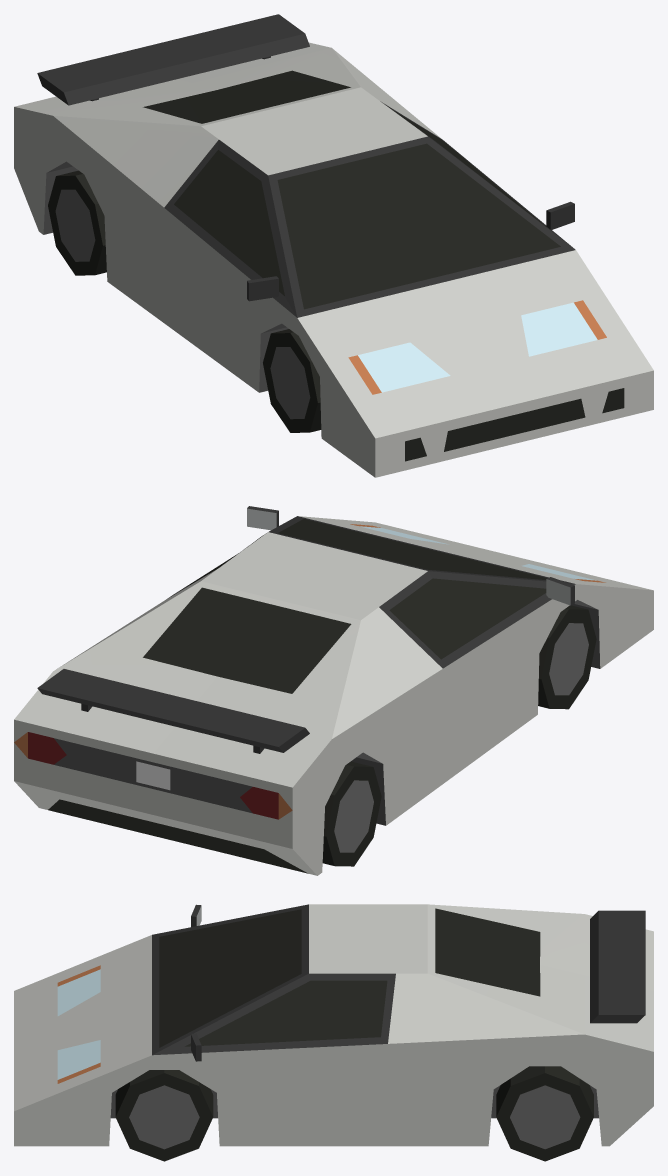
File: Veh_Sports_Car_02_White.glb
The picture shows the model from 3 angles, top to bottom: view 1: azimuth 30°, elevation 25°; view 2: azimuth 150°, elevation 25°; view 3: azimuth 270°, elevation 25°; orthographic projection. The views are drawn at different scales.
Visible parts, largest first — view 1: Sports_Car_02_White, Wheel_RR, Wheel_FR; view 2: Sports_Car_02_White, Wheel_RR, Wheel_FR; view 3: Sports_Car_02_White, Wheel_RL, Wheel_FL.
Boxes of the visible parts, left/top/right/bottom form: Sports_Car_02_White: left=14, top=14, right=653, bottom=477; Wheel_RR: left=48, top=170, right=106, bottom=275; Wheel_FR: left=263, top=329, right=321, bottom=432; Sports_Car_02_White: left=14, top=506, right=653, bottom=875; Wheel_RR: left=322, top=761, right=381, bottom=866; Wheel_FR: left=538, top=605, right=596, bottom=709; Sports_Car_02_White: left=14, top=904, right=653, bottom=1146; Wheel_RL: left=496, top=1066, right=593, bottom=1161; Wheel_FL: left=115, top=1070, right=213, bottom=1161.
Bounding box in the file's own units: 1.28 × 0.6906 × 2.47.
1 material, 1 textured.
